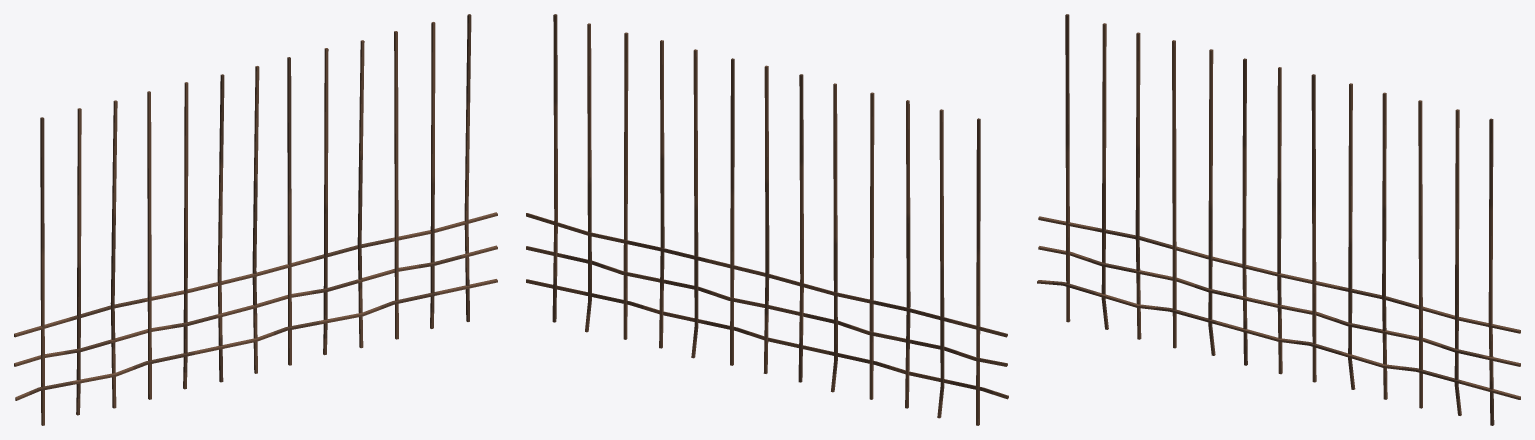
Rendered from SM_Bld_ConcreteRebar_Wall_02.fbx.
The picture shows the model from 3 angles, left to right: view 1: azimuth 30°, elevation 25°; view 2: azimuth 150°, elevation 25°; view 3: azimuth 330°, elevation 25°; orthographic projection.
Visible parts, largest first — view 1: SM_Bld_ConcreteRebar_Wall_02; view 2: SM_Bld_ConcreteRebar_Wall_02; view 3: SM_Bld_ConcreteRebar_Wall_02.
Part boxes in pixels (x1,y1,x2,y2): SM_Bld_ConcreteRebar_Wall_02: [14, 14, 497, 425]; SM_Bld_ConcreteRebar_Wall_02: [526, 14, 1008, 425]; SM_Bld_ConcreteRebar_Wall_02: [1037, 14, 1520, 425].
Bounding box in the file's own units: 480 × 292 × 8.95.
